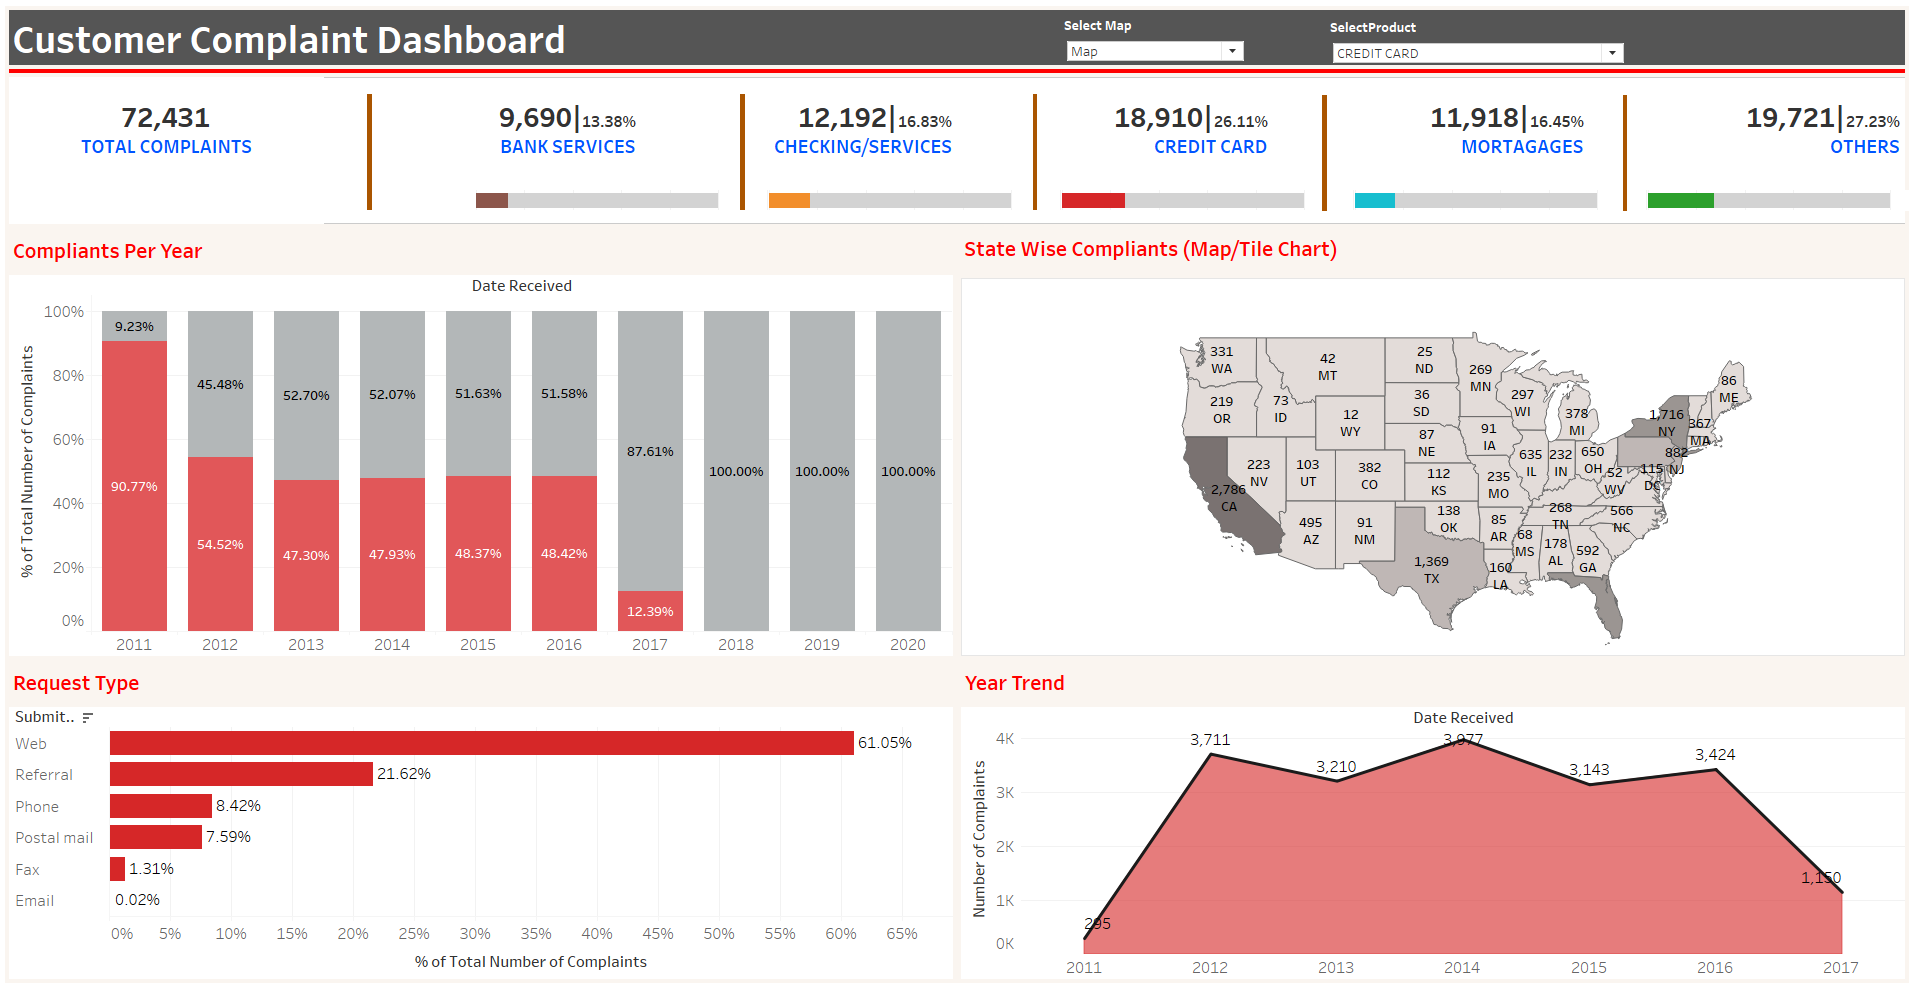

The dashboard page shown, as its layout file describes it:
{"tool":"tableau","page":{"name":"Customer Complaint Dashboard","canvas":[1000,1000],"units":"permille","ordinal":0},"visuals":[{"type":"title","box":[4.2,9.9,991.5,77.7]},{"type":"parameter","param":"[Parameters].[Parameter 2]","box":[555.5,18.5,95.5,55.5]},{"type":"parameter","param":"[Parameters].[Parameter 1]","box":[694.5,19.7,154.5,71.5]},{"type":"blank","box":[4.2,87.5,991.5,4.9]},{"type":"worksheet","title":"Total KPI","mark":"Automatic","box":[4.2,92.5,169,140.6]},{"type":"worksheet","title":"KPI","mark":"Automatic","box":[173.2,92.5,822.6,140.6]},{"type":"blank","box":[192.7,96.2,2.4,117.1]},{"type":"blank","box":[387.2,96.2,2.4,117.1]},{"type":"blank","box":[539.4,96.2,2.4,117.1]},{"type":"blank","box":[690.3,97.4,2.4,117.1]},{"type":"blank","box":[846.7,97.4,2.4,117.1]},{"type":"worksheet","title":"Compliants Per Year","mark":"Bar","cols":["Date Received"],"box":[4.2,233.1,495.8,432.8]},{"type":"text","box":[500,233.1,495.8,50.6]},{"type":"worksheet","title":"Map Bank Services","mark":"Multipolygon","box":[500,283.6,495.8,1.2]},{"type":"worksheet","title":"Map All","mark":"Multipolygon","box":[500,284.8,495.8,1.2]},{"type":"worksheet","title":"Map Checking","mark":"Multipolygon","box":[500,286.1,495.8,1.2]},{"type":"worksheet","title":"Map Mortagage","mark":"Multipolygon","box":[500,287.3,495.8,1.2]},{"type":"worksheet","title":"Map Others","mark":"Multipolygon","box":[500,288.5,495.8,1.2]},{"type":"worksheet","title":"Map Credit Card","mark":"Multipolygon","box":[500,289.8,495.8,376.1]},{"type":"worksheet","title":"Request Type","mark":"Automatic","rows":["Submitted via"],"box":[4.2,665.8,495.8,324.3]},{"type":"worksheet","title":"Year Trend","mark":"Area","rows":["Number of Complaints","Number of Complaints"],"cols":["Date Received"],"box":[500,665.8,495.8,324.3]}]}

Visuals, with their boxes on the dashboard's canvas, which has no fixed pixel size, in thousandths of its width and height (x1, y1, x2, y2). These are canvas units, not pixel positions in the 1917x989 screenshot, which may show the page scaled, cropped or inside an application window:
title: [left=4, top=10, right=996, bottom=88]
parameter: [left=556, top=18, right=651, bottom=74]
parameter: [left=694, top=20, right=849, bottom=91]
blank: [left=4, top=88, right=996, bottom=92]
"Total KPI" worksheet: [left=4, top=92, right=173, bottom=233]
"KPI" worksheet: [left=173, top=92, right=996, bottom=233]
blank: [left=193, top=96, right=195, bottom=213]
blank: [left=387, top=96, right=390, bottom=213]
blank: [left=539, top=96, right=542, bottom=213]
blank: [left=690, top=97, right=693, bottom=214]
blank: [left=847, top=97, right=849, bottom=214]
"Compliants Per Year" worksheet (Bar marks): [left=4, top=233, right=500, bottom=666]
text: [left=500, top=233, right=996, bottom=284]
"Map Bank Services" worksheet (Multipolygon marks): [left=500, top=284, right=996, bottom=285]
"Map All" worksheet (Multipolygon marks): [left=500, top=285, right=996, bottom=286]
"Map Checking" worksheet (Multipolygon marks): [left=500, top=286, right=996, bottom=287]
"Map Mortagage" worksheet (Multipolygon marks): [left=500, top=287, right=996, bottom=288]
"Map Others" worksheet (Multipolygon marks): [left=500, top=288, right=996, bottom=290]
"Map Credit Card" worksheet (Multipolygon marks): [left=500, top=290, right=996, bottom=666]
"Request Type" worksheet: [left=4, top=666, right=500, bottom=990]
"Year Trend" worksheet (Area marks): [left=500, top=666, right=996, bottom=990]
